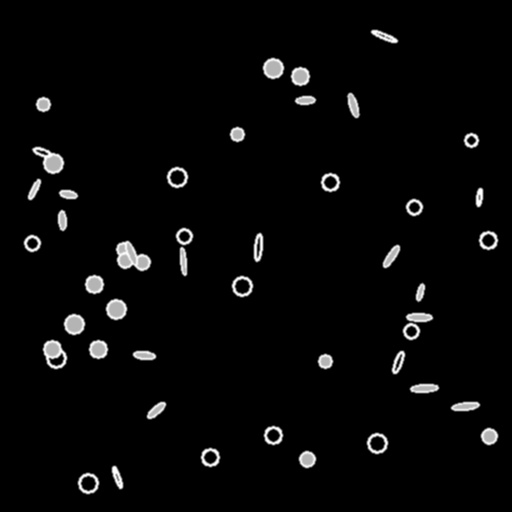pseudomonas: (381, 244, 401, 268), (123, 241, 139, 265), (346, 92, 360, 118), (371, 29, 397, 43), (146, 401, 166, 419), (391, 350, 405, 374), (451, 401, 479, 411), (253, 233, 263, 261), (27, 179, 41, 199), (111, 466, 123, 488), (32, 146, 52, 158), (411, 384, 437, 392), (179, 248, 187, 274), (406, 313, 432, 321), (415, 283, 425, 301), (59, 189, 77, 199), (134, 351, 154, 359), (58, 210, 66, 230), (475, 188, 483, 206), (296, 96, 314, 104)
synechocystis: (107, 300, 125, 318), (264, 59, 282, 77), (79, 474, 97, 492), (233, 277, 251, 295), (168, 168, 186, 186), (44, 154, 62, 172), (368, 434, 386, 452), (47, 349, 65, 367), (65, 315, 83, 333), (292, 68, 308, 84), (202, 449, 218, 465), (322, 174, 338, 190), (265, 427, 281, 443), (44, 341, 60, 357), (86, 276, 102, 292), (480, 232, 496, 248), (90, 341, 106, 357), (25, 236, 39, 250), (300, 452, 314, 466), (118, 253, 132, 267), (177, 229, 191, 243), (407, 200, 421, 214), (135, 255, 149, 269), (404, 324, 418, 338), (482, 429, 496, 443), (231, 128, 243, 140), (117, 243, 129, 255), (465, 134, 477, 146), (319, 355, 331, 367), (37, 98, 49, 110)
